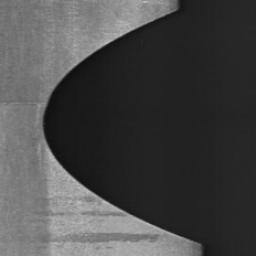Crescent gap: (43, 10, 199, 244)
